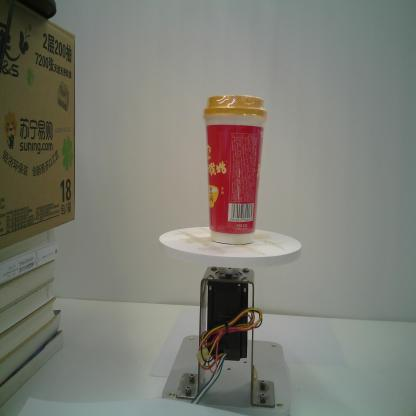Instant Drink: (202, 94, 268, 245)
